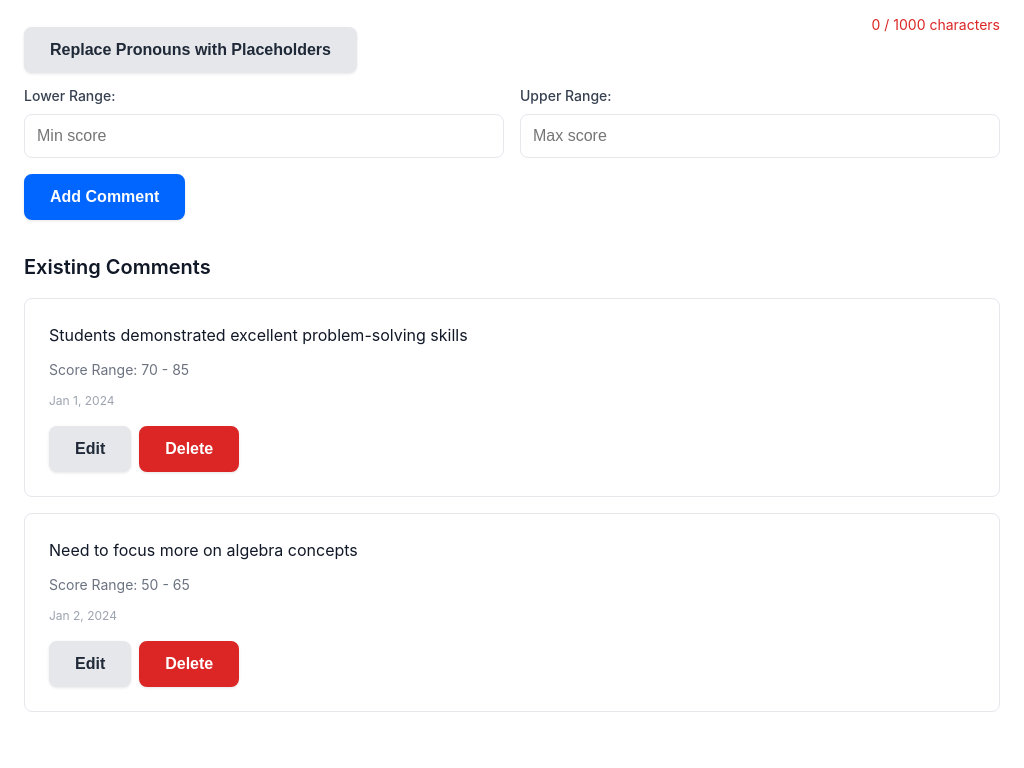
Test: OutcomeCommentsModal › User Story 4: Delete outcome comment › should show confirmation dialog when delete button is clicked
The width and height of the screenshot is (1024, 768).
(page scrolled)
Click the button "Delete" below "Jan 1, 2024" at (189, 449), box [139,426,239,472]
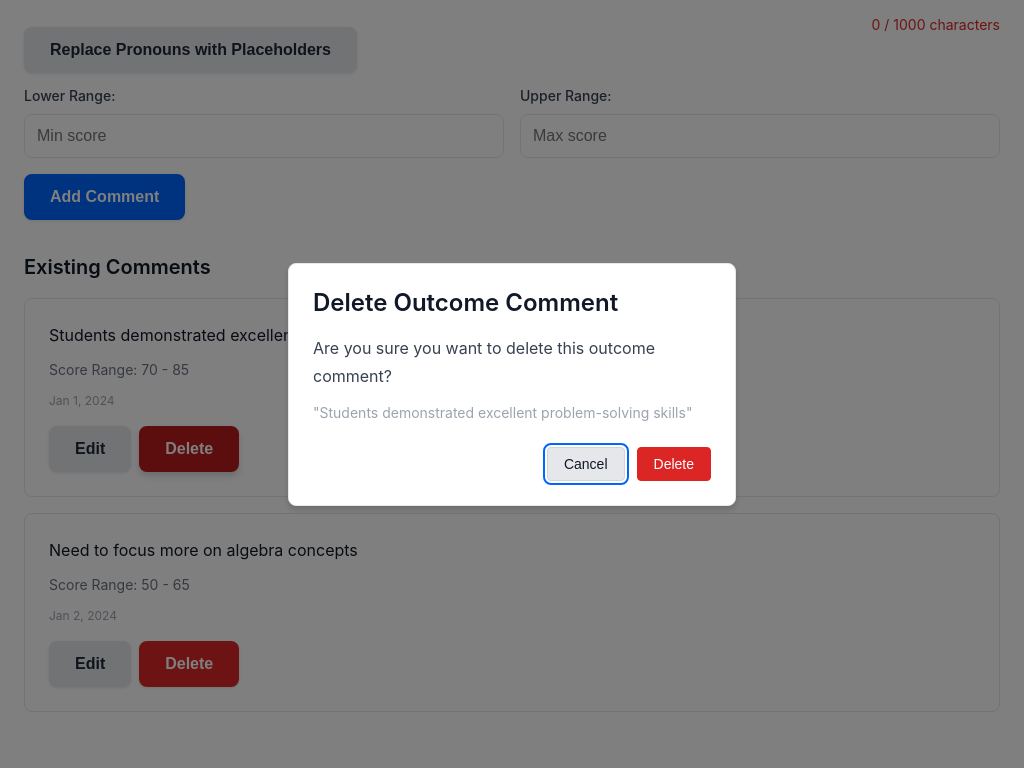
Now the heading "Delete Outcome Comment" is shown, box [313,288,618,316]
Now the text "Are you sure you want to delete this outcome comment?" is shown, box [313,334,711,390]
